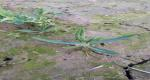osot: (30, 28, 140, 56)
